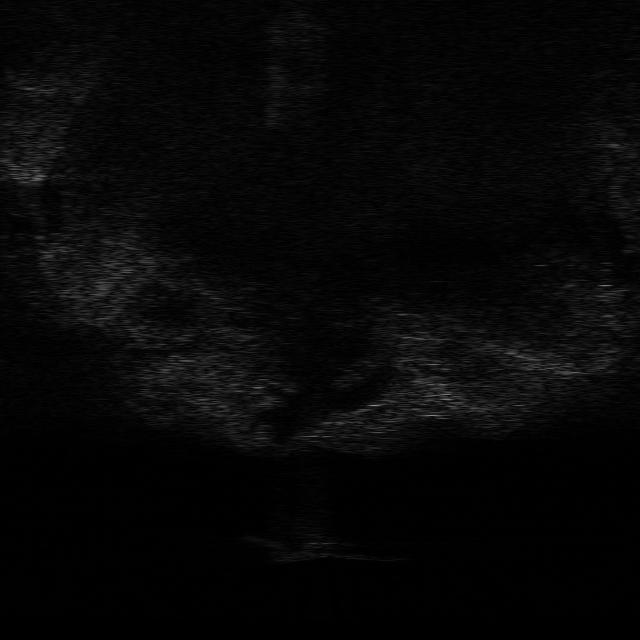plane: (245, 525, 409, 566)
